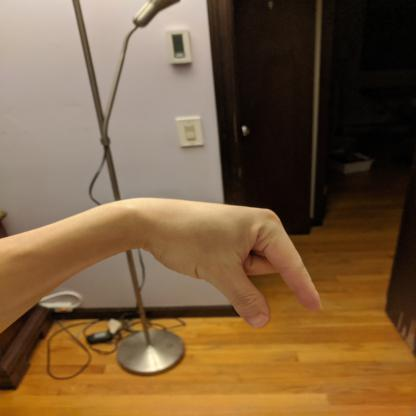Q: (137, 193, 328, 332)
